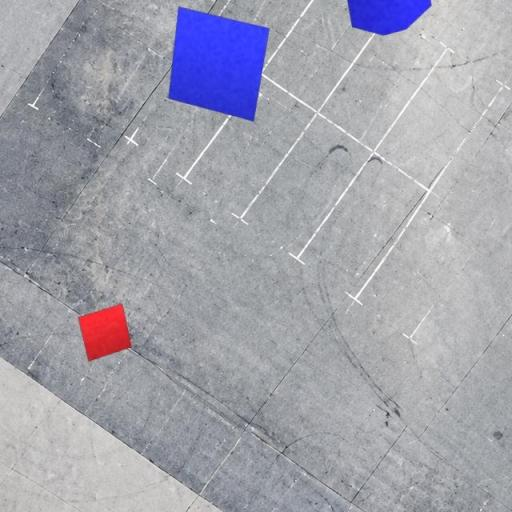BLUE_SQUARE: (168, 6, 270, 122)
RED_SQUARE: (78, 303, 132, 362)
